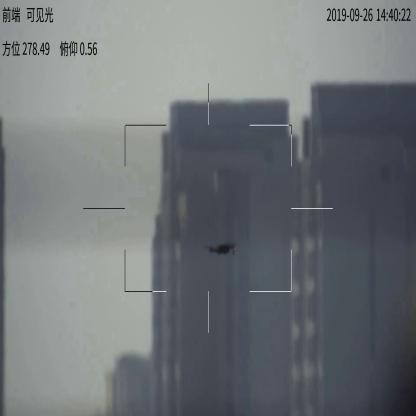uav: (206, 241, 237, 258)
